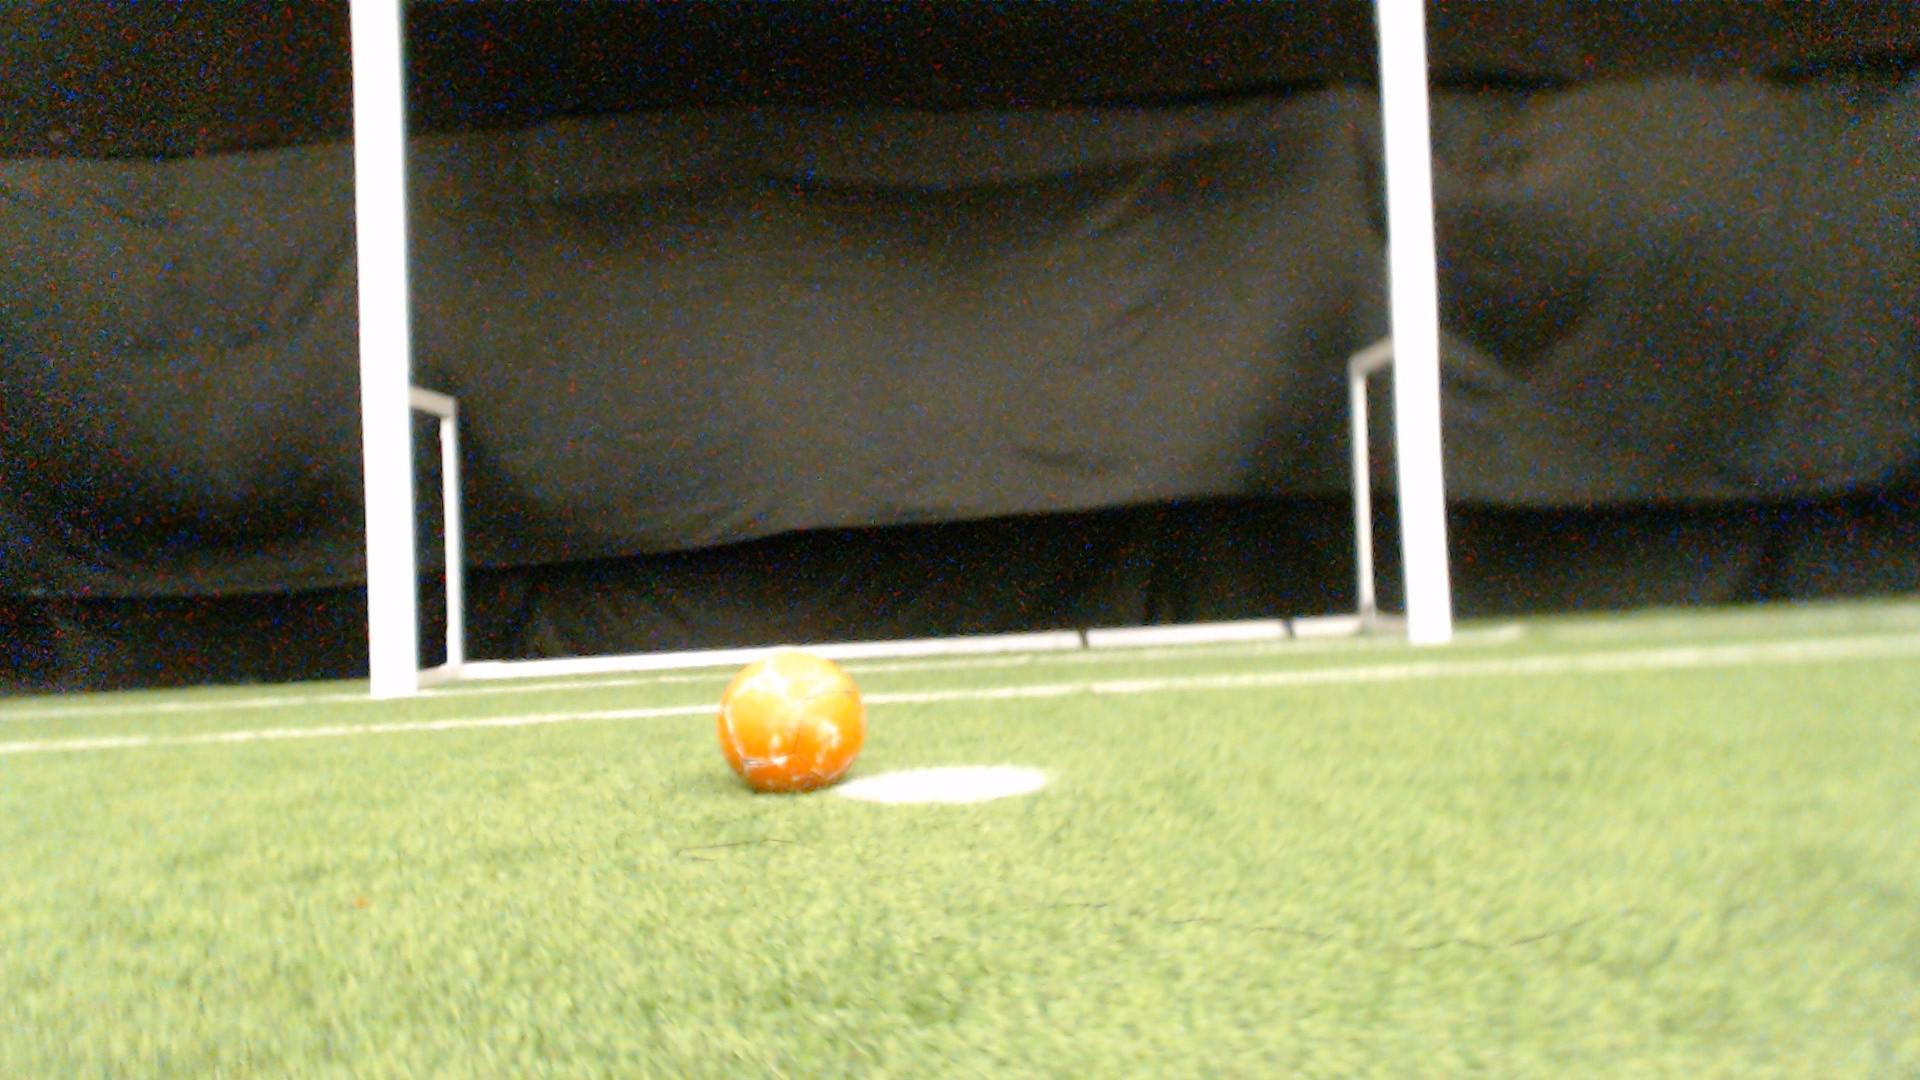bola: (704, 640, 886, 806)
